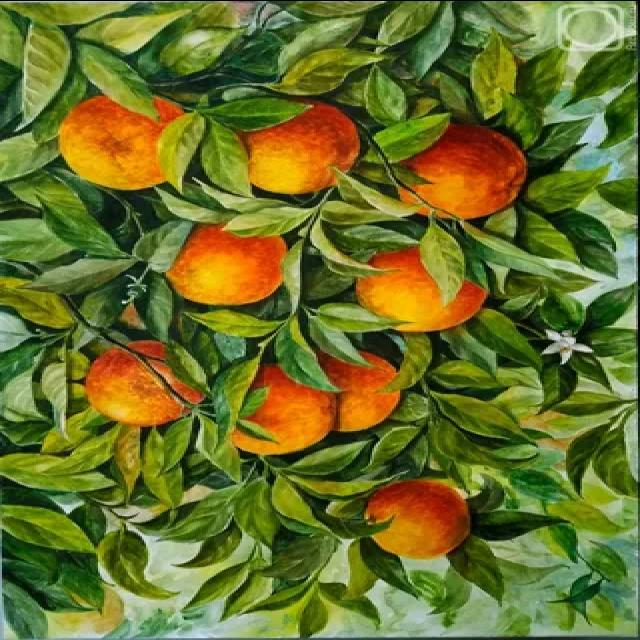orange: (162, 211, 304, 310), (344, 473, 484, 564)
